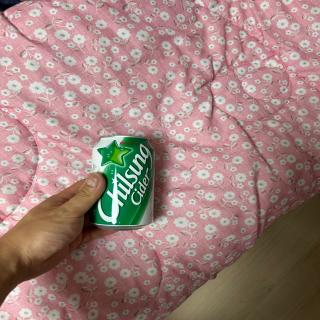cocacola: (90, 134, 155, 230)
